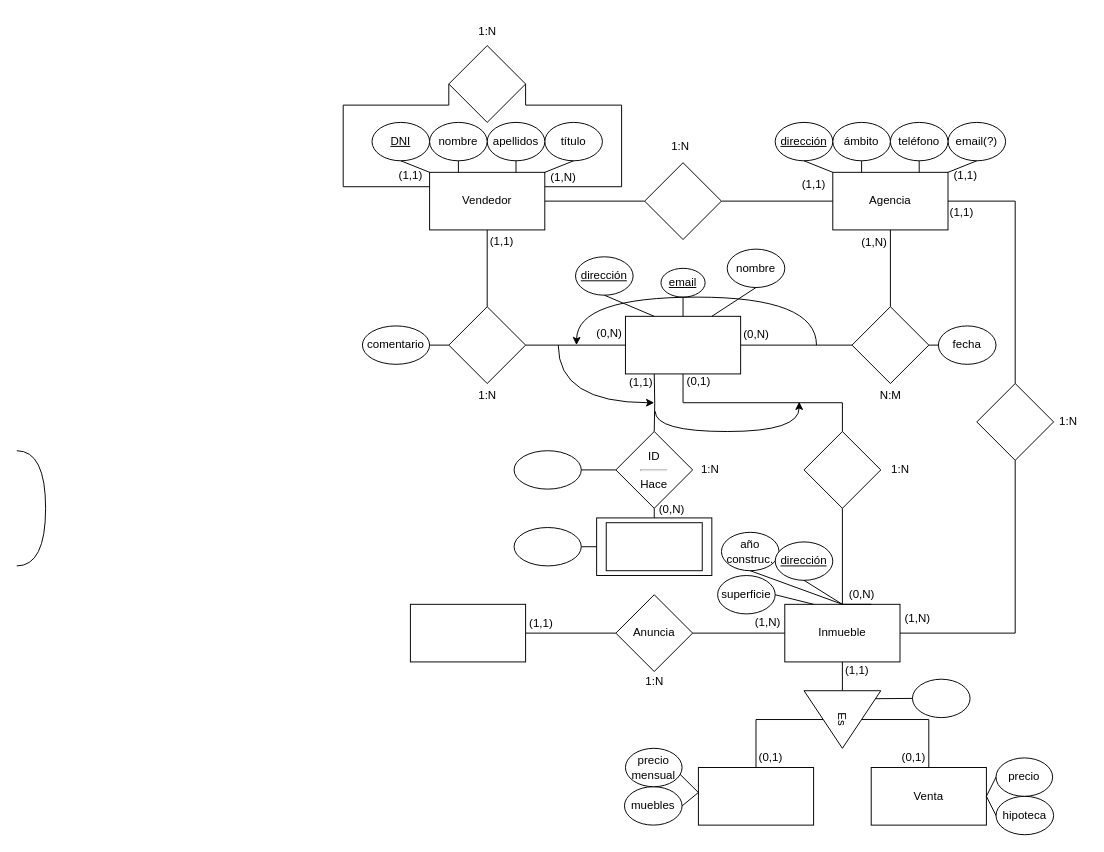
Image size: 1104x852. Some labels were removed from this diagram. The centre of each missing label's shape, as x and y in pixels:
Alquiler: (x=755, y=796)
Atiende: (x=487, y=345)
Cliente: (x=682, y=344)
código: (x=547, y=546)
fecha realización: (x=547, y=469)
Ofrece: (x=1015, y=421)
Pertenece: (x=682, y=201)
Propietario: (x=467, y=632)
Reserva: (x=842, y=469)
Supervisa: (x=487, y=83)
tipo: (x=941, y=698)
Transferencia: (x=653, y=546)
Visita: (x=890, y=345)
